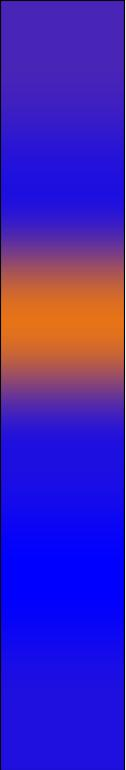critical: (8, 259, 116, 395)
safe: (14, 403, 110, 759), (9, 10, 113, 238)
